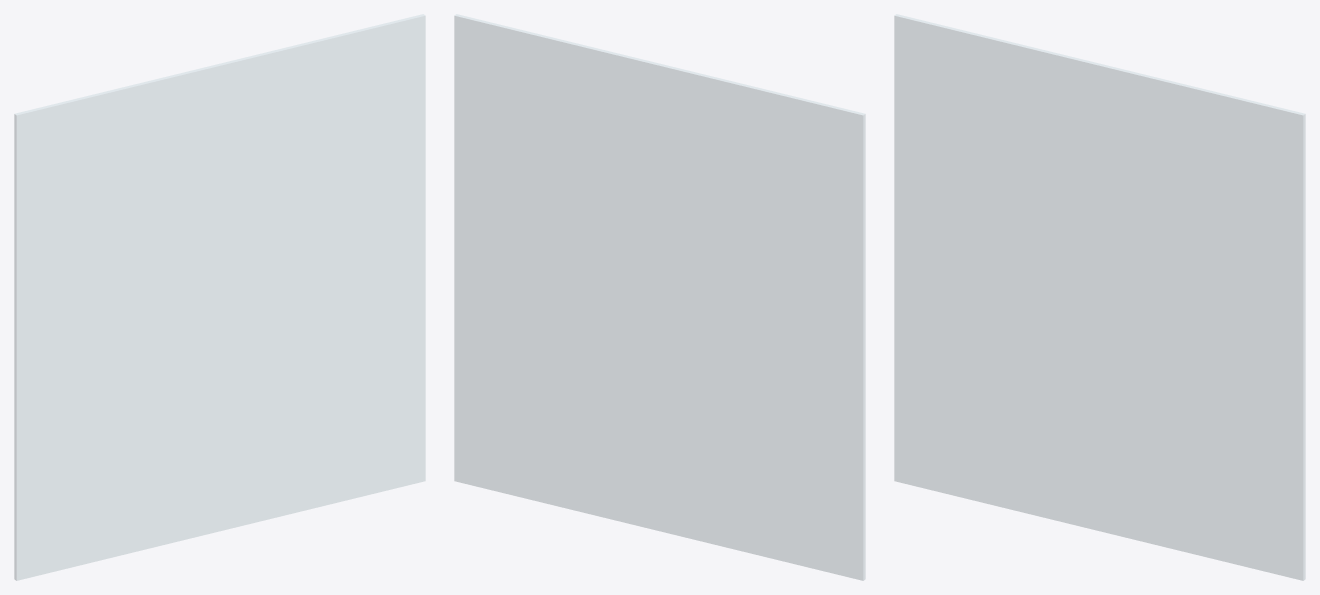
Rendered from gab_frente.glb.
3 views of the same model, side by side, from view 1: azimuth 30°, elevation 25°; view 2: azimuth 150°, elevation 25°; view 3: azimuth 330°, elevation 25° (orthographic).
Parts seen in each view (by area): view 1: gab_frente; view 2: gab_frente; view 3: gab_frente.
Boxes of the visible parts, bbox=[...] form: gab_frente: bbox=[14, 14, 425, 580]; gab_frente: bbox=[454, 14, 865, 580]; gab_frente: bbox=[894, 14, 1305, 580].
Bounding box in the file's own units: 412 × 448 × 4.
